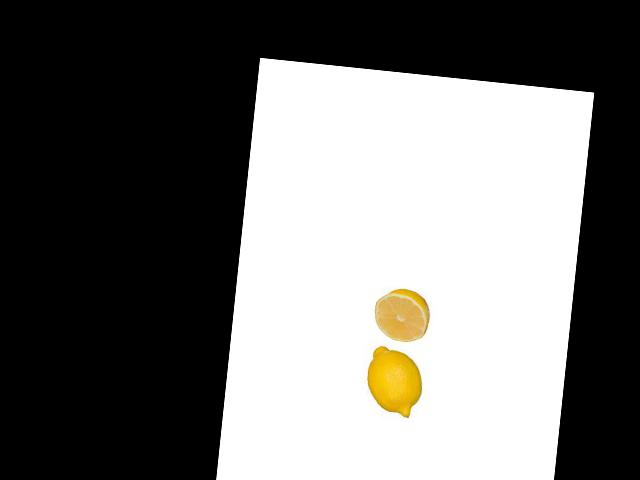lemon: (361, 339, 426, 421)
